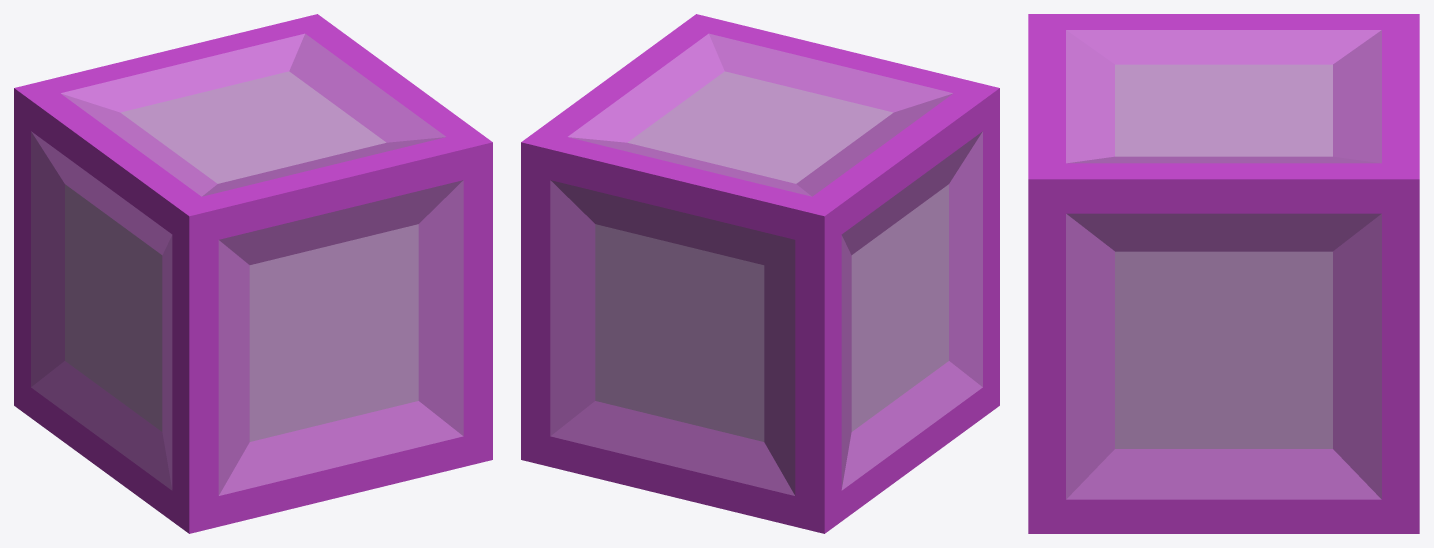
The model's file is CubePink.fbx.
3 views of the same model, side by side, from view 1: azimuth 30°, elevation 25°; view 2: azimuth 150°, elevation 25°; view 3: azimuth 270°, elevation 25° (orthographic). The views are drawn at different scales.
Visible parts, largest first — view 1: Cube.005; view 2: Cube.005; view 3: Cube.005.
Part boxes in pixels (box(x1,y1,x2,y2)): Cube.005: box(14, 14, 492, 533); Cube.005: box(521, 14, 999, 533); Cube.005: box(1028, 14, 1419, 533).
Size of the model in its own units: 109 by 109 by 109.
